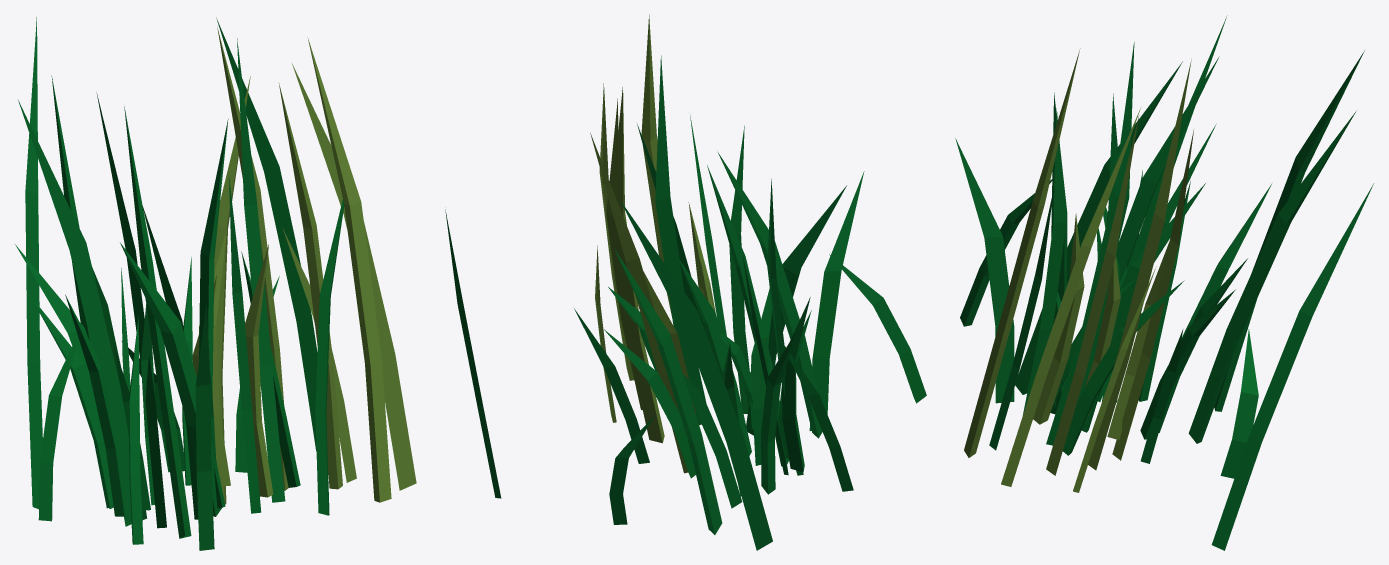
The model's file is Grass_6.fbx.
3 views of the same model, side by side, from view 1: azimuth 30°, elevation 25°; view 2: azimuth 150°, elevation 25°; view 3: azimuth 270°, elevation 25° (orthographic). The views are drawn at different scales.
Parts seen in each view (by area): view 1: Grass_6; view 2: Grass_6; view 3: Grass_6.
Part boxes in pixels (x1=…): Grass_6: x1=15, y1=17, x2=416, y2=550; Grass_6: x1=445, y1=14, x2=926, y2=550; Grass_6: x1=955, y1=15, x2=1373, y2=550.
Bounding box in the file's own units: 62.7 × 71.44 × 86.79.
